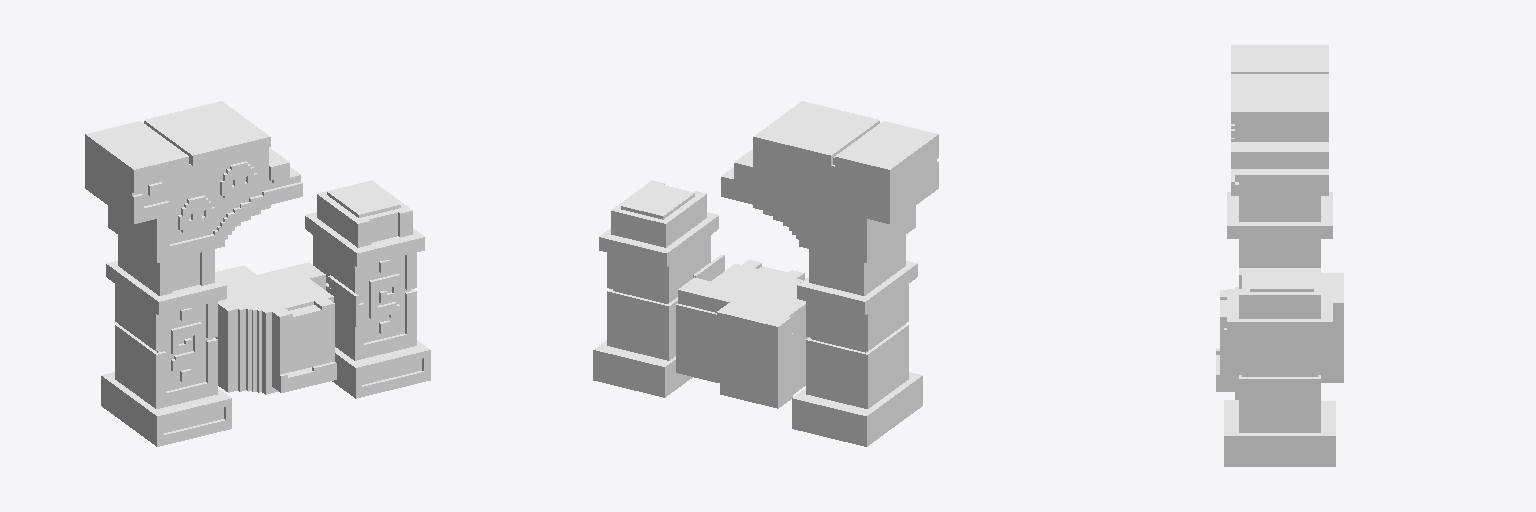
File: Tilemap_Deco_C0_P004.obj
3 views of the same model, side by side, from view 1: azimuth 30°, elevation 25°; view 2: azimuth 150°, elevation 25°; view 3: azimuth 270°, elevation 25° (orthographic).
Parts seen in each view (by area): view 1: object 1; view 2: object 1; view 3: object 1.
Part boxes in pixels (bbox=[...]): object 1: bbox=[85, 101, 430, 446]; object 1: bbox=[593, 101, 938, 446]; object 1: bbox=[1216, 45, 1343, 466].
Bounding box in the file's own units: 9 × 8.2 × 3.4.